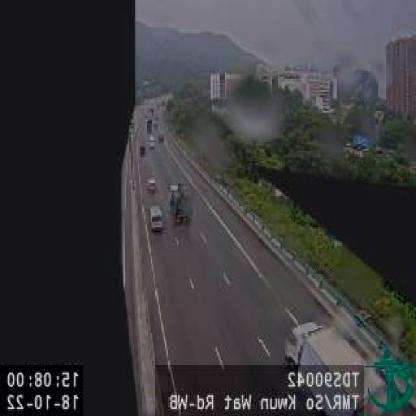Car: (146, 204, 164, 234), (146, 178, 157, 194)
Truck: (279, 319, 389, 414), (168, 178, 194, 226)
